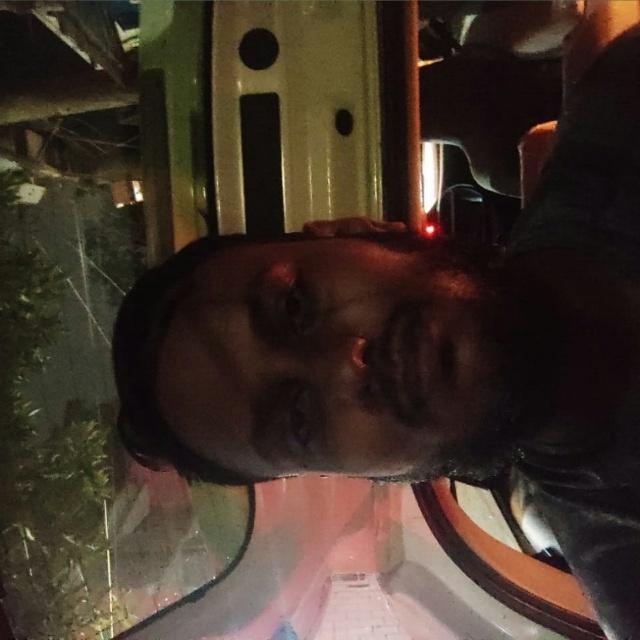Natural: (122, 180, 491, 508)
